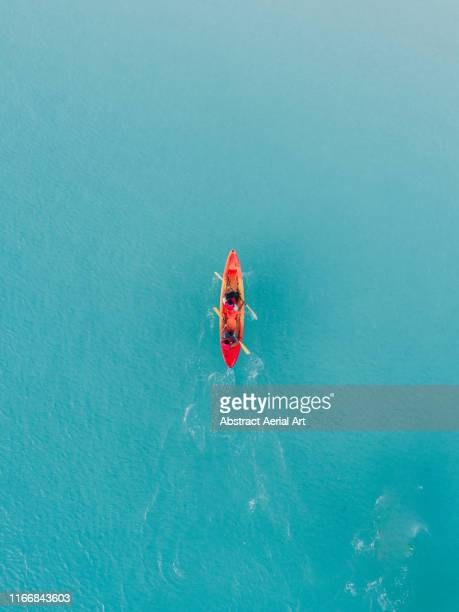kayaker: (208, 249, 261, 373)
